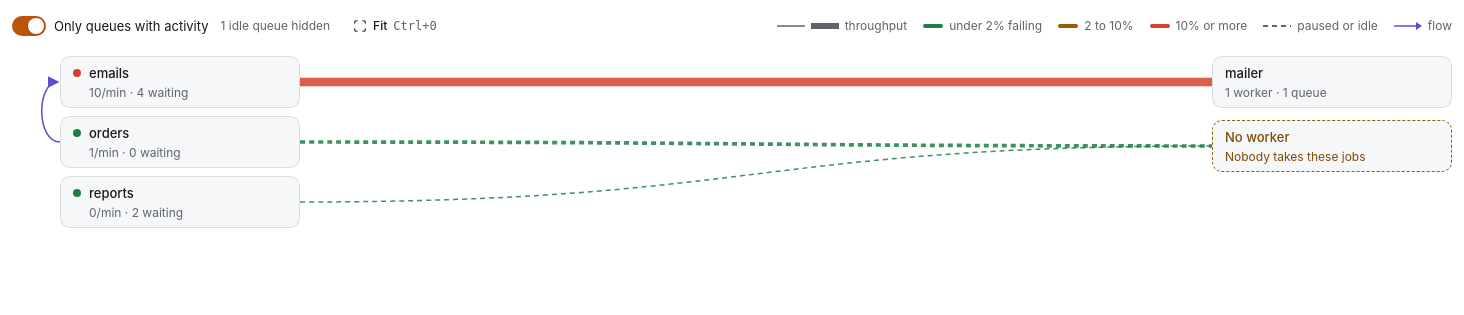
Test: MapView › a clicked queue shows in / out, failure, main cause and waiting
Click the button "emails 10/min · 4 waiting": [180, 82] box [60, 56, 300, 108]
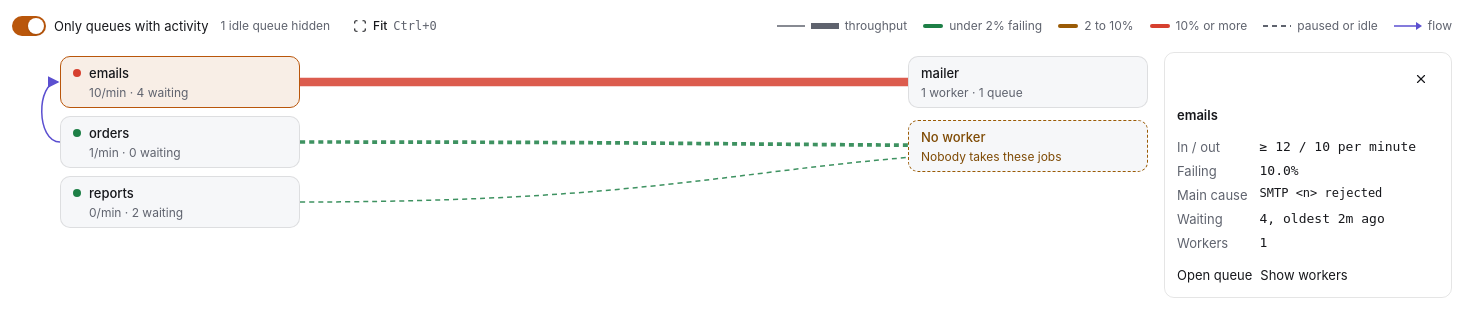
Result: the element with test id "map-details" shows "≥ 12 / 10 per minute" at [1164, 52, 1452, 298]
Result: the element with test id "map-details" shows "10.0%" at [1164, 52, 1452, 298]
Result: the text "SMTP <n> rejected" is shown at [1260, 186, 1382, 200]
